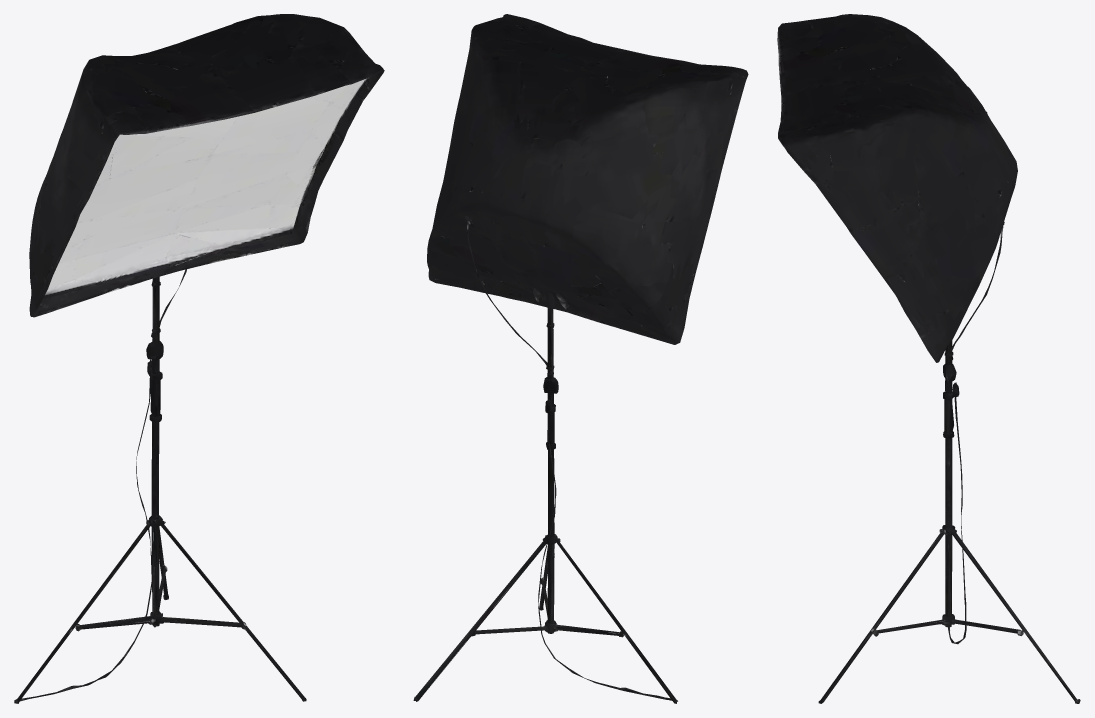
The model's file is StudioSoftbox_ST-optimized.glb.
The picture shows the model from 3 angles, left to right: view 1: azimuth 30°, elevation 25°; view 2: azimuth 150°, elevation 25°; view 3: azimuth 270°, elevation 25°; orthographic projection. The views are drawn at different scales.
Visible parts, largest first — view 1: mesh_node; view 2: mesh_node; view 3: mesh_node.
Part boxes in pixels (bbox=[...]): mesh_node: bbox=[14, 14, 384, 703]; mesh_node: bbox=[413, 14, 748, 703]; mesh_node: bbox=[777, 14, 1080, 703].
Size of the model in its own units: 0.4571 by 1 by 0.458.
1 material, 1 textured.
